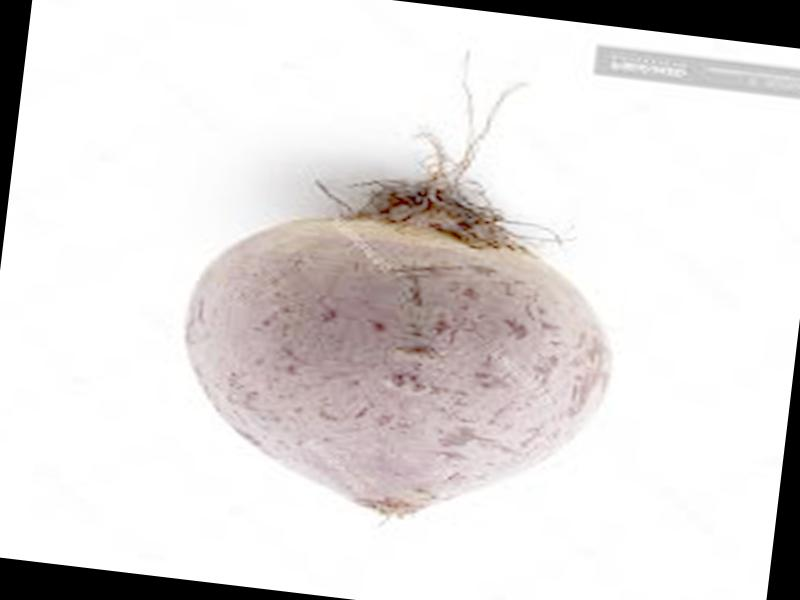Beet: (163, 19, 650, 544)
